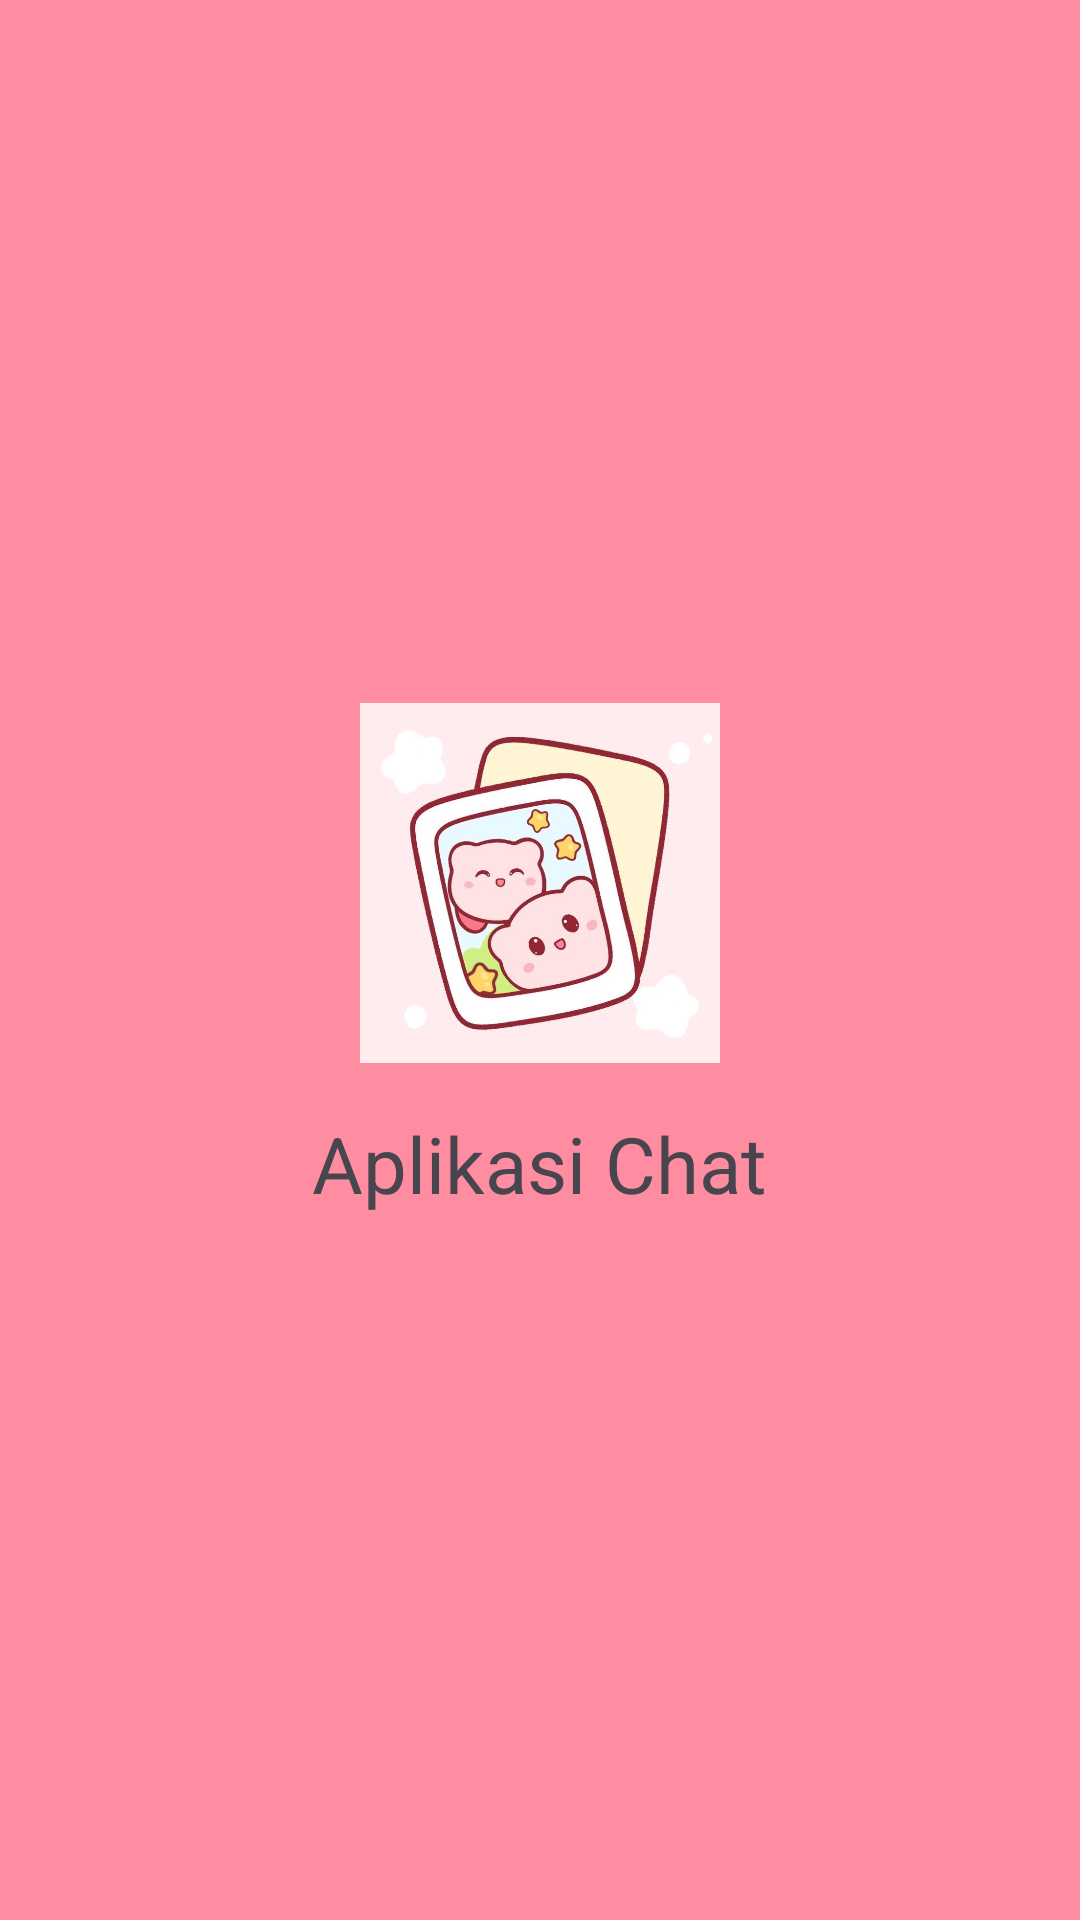

Icon click points for this 1080 × 1920 phone screenshot, format (x,y):
ikon: (540,883)
